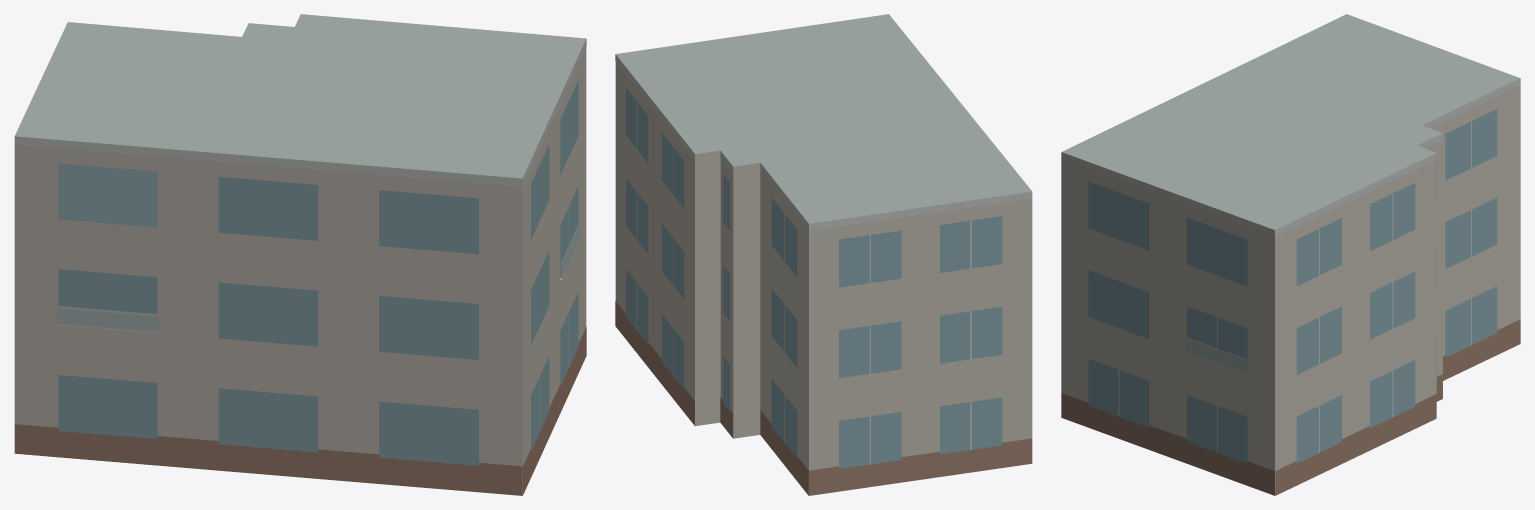
The model's file is survey-upis-32707895.glb.
The picture shows the model from 3 angles, left to right: view 1: azimuth 30°, elevation 25°; view 2: azimuth 150°, elevation 25°; view 3: azimuth 270°, elevation 25°; orthographic projection. The views are drawn at different scales.
Visible parts, largest first — view 1: survey-upis-32707895.tmp; view 2: survey-upis-32707895.tmp; view 3: survey-upis-32707895.tmp.
Part boxes in pixels (<box>): survey-upis-32707895.tmp: <box>14,14,586,495</box>; survey-upis-32707895.tmp: <box>615,14,1032,495</box>; survey-upis-32707895.tmp: <box>1061,14,1520,495</box>.
Bounding box in the file's own units: 15.97 × 9.15 × 14.33.
